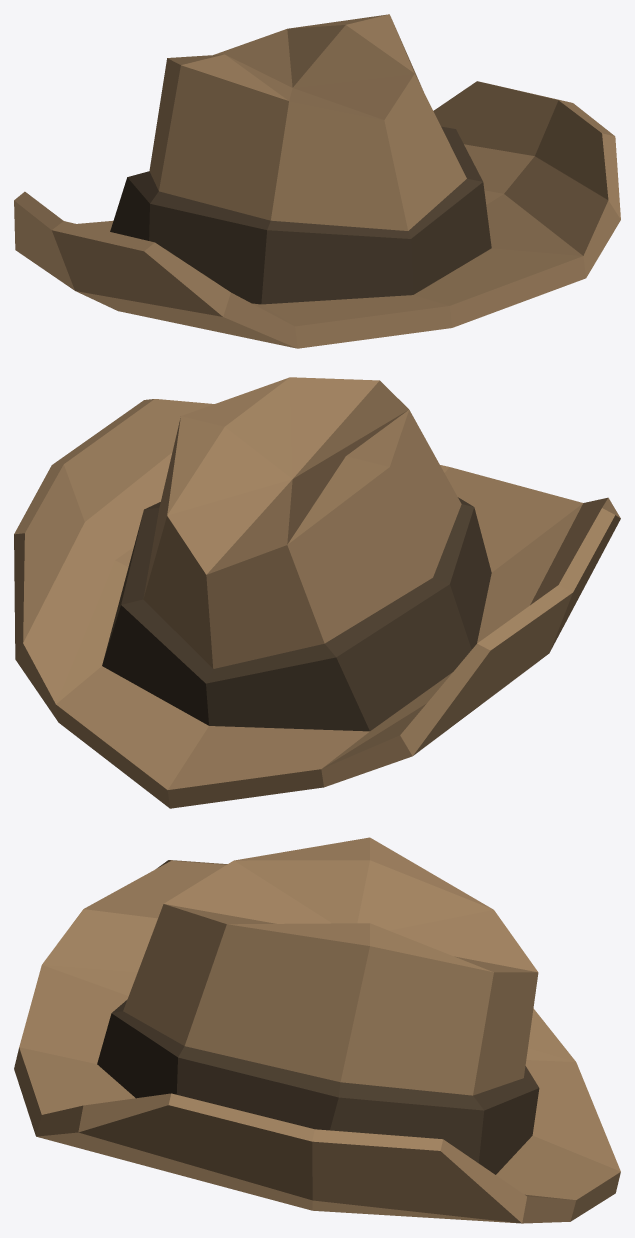
Rendered from hat-farmer.glb.
The picture shows the model from 3 angles, top to bottom: view 1: azimuth 30°, elevation 25°; view 2: azimuth 150°, elevation 25°; view 3: azimuth 270°, elevation 25°; orthographic projection. The views are drawn at different scales.
Parts seen in each view (by area): view 1: Hat; view 2: Hat; view 3: Hat.
Boxes of the visible parts, x1,y1,x2,y2 form: Hat: (14,14,620,348); Hat: (14,377,620,808); Hat: (14,837,620,1223).
Bounding box in the file's own units: 0.5085 × 0.2636 × 0.4807.
1 material, 1 textured.
